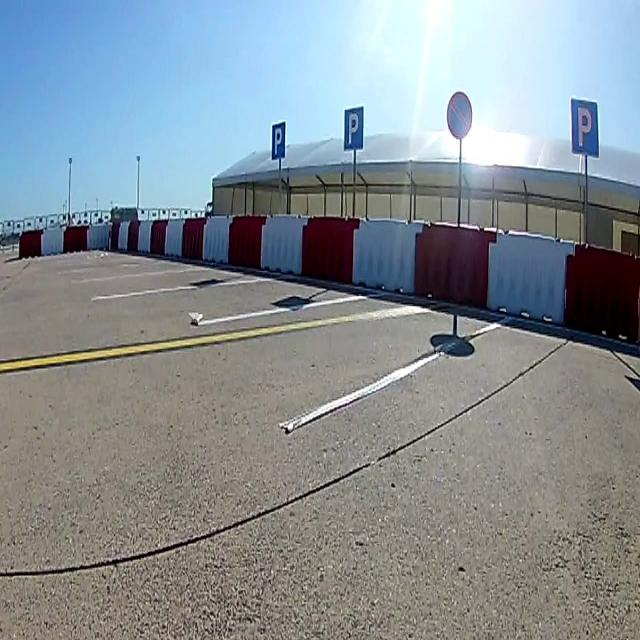park: (570, 98, 598, 157), (344, 106, 362, 149), (271, 122, 285, 157)
parkyasak: (448, 94, 474, 138)
